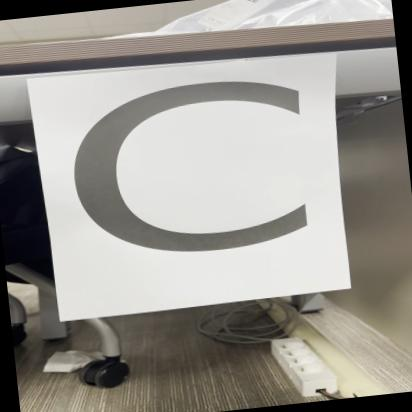seat: (29, 47, 356, 317)
